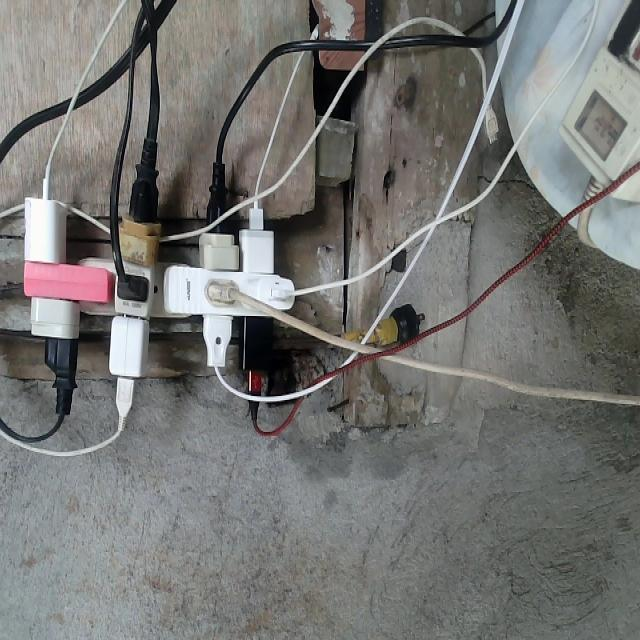-: (21, 148, 297, 415)
